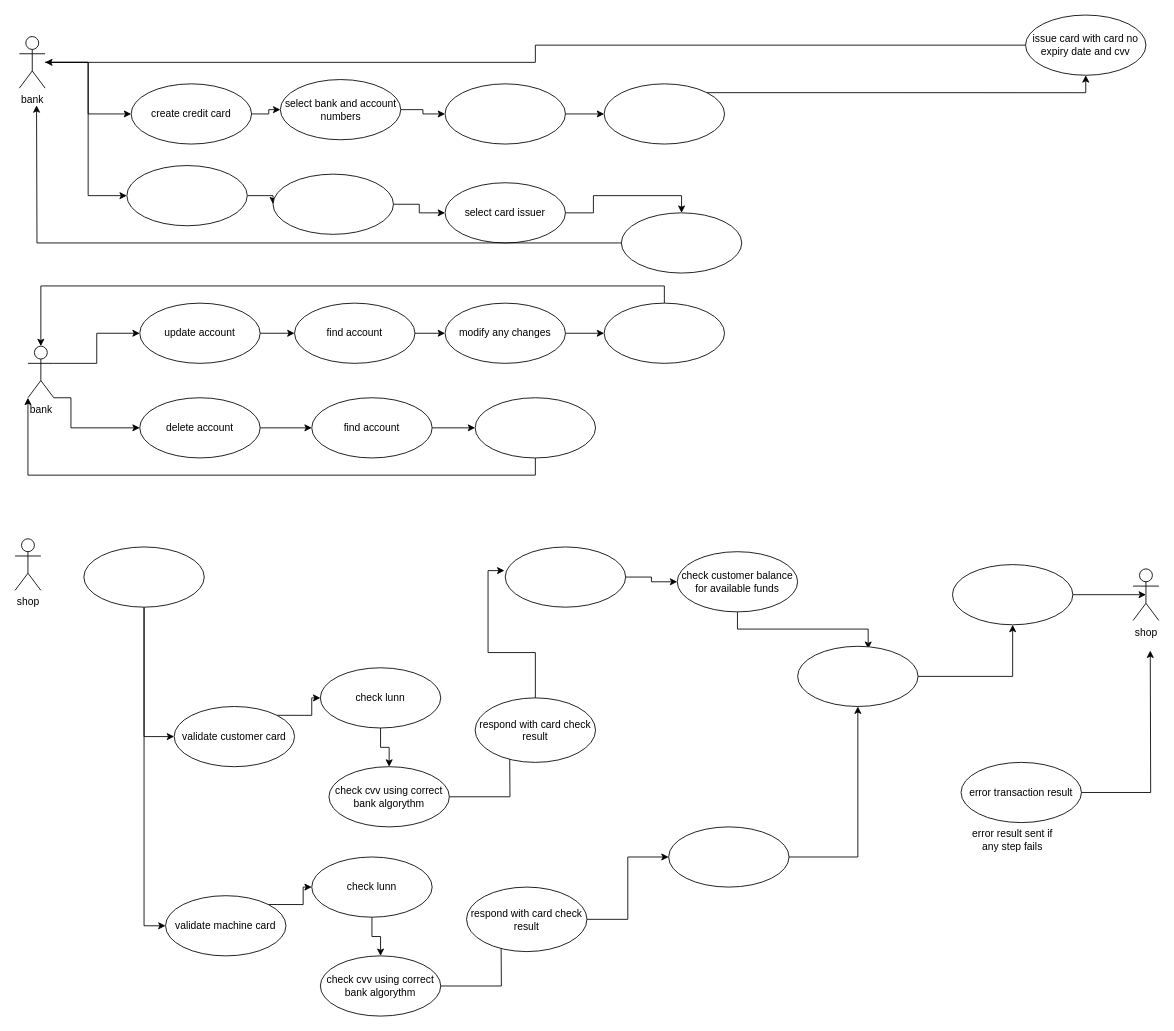
Image size: 1174x1031. Some labels were removed from this diagram. Each missing label, with the centre of its shape:
calculate cvv using correct bank algorythm: pixel 504 113
calculate lunn: pixel 664 113
create account: pixel 186 195
erase all the data: pixel 535 427
find customer account: pixel 565 576
find shop account: pixel 728 856
issue account no: pixel 681 242
list all card issuers: pixel 332 203
save changes: pixel 664 332
take payment: pixel 143 576
transaction result: pixel 1012 594
transfer money between accounts: pixel 857 675
